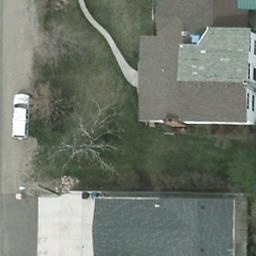car: (11, 94, 32, 139)
